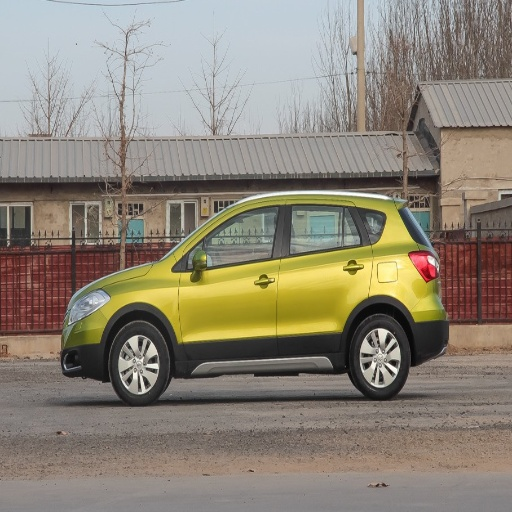back_bumper: (413, 297, 447, 356)
back_left_door: (277, 201, 372, 354)
front_left_door: (180, 202, 285, 359)
